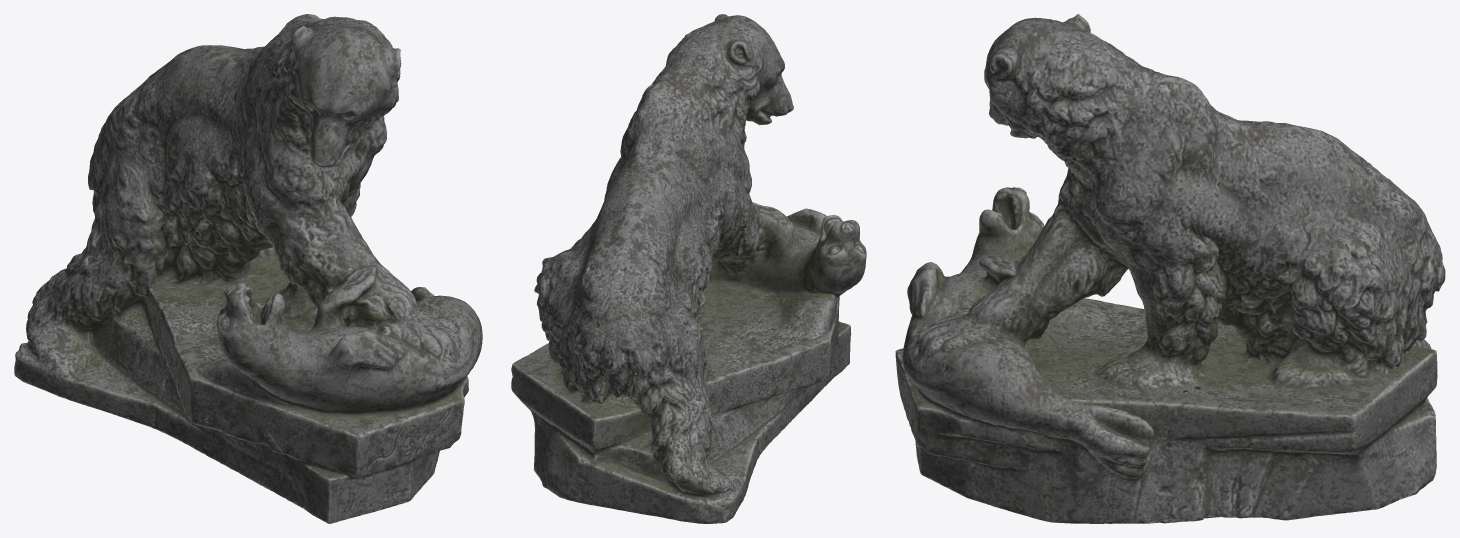
The model's file is eisbar_und_seehund.fbx.
3 renders of one model, left to right at view 1: azimuth 30°, elevation 25°; view 2: azimuth 150°, elevation 25°; view 3: azimuth 270°, elevation 25°, orthographic. The views are drawn at different scales.
Visible parts, largest first — view 1: node_b8ab286d_75e0_43f2_a097_f6718f811c9b_mesh0; view 2: node_b8ab286d_75e0_43f2_a097_f6718f811c9b_mesh0; view 3: node_b8ab286d_75e0_43f2_a097_f6718f811c9b_mesh0.
Part boxes in pixels (<box>): node_b8ab286d_75e0_43f2_a097_f6718f811c9b_mesh0: <box>14,14,482,523</box>; node_b8ab286d_75e0_43f2_a097_f6718f811c9b_mesh0: <box>511,14,866,523</box>; node_b8ab286d_75e0_43f2_a097_f6718f811c9b_mesh0: <box>895,14,1445,523</box>.
Bounding box in the file's own units: 97.9 × 131 × 146.
Materials: 1 (1 with a texture image).
